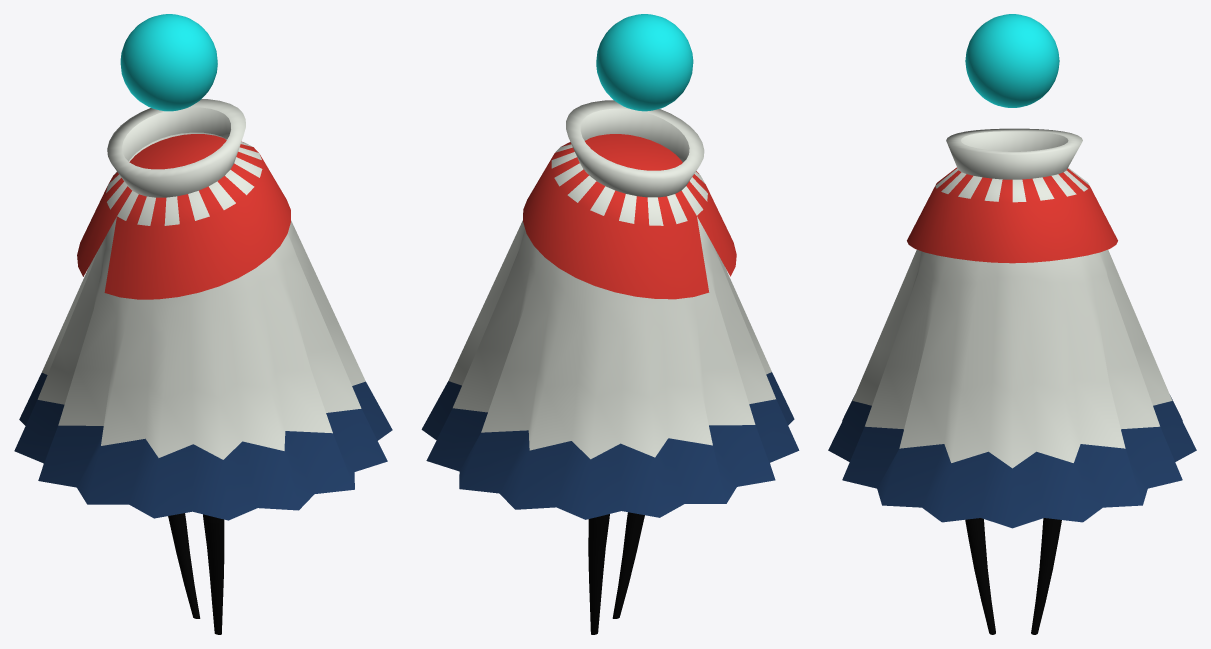
The model's file is Character model1.fbx.
3 renders of one model, left to right at view 1: azimuth 30°, elevation 25°; view 2: azimuth 150°, elevation 25°; view 3: azimuth 270°, elevation 25°, orthographic. The views are drawn at different scales.
Visible parts, largest first — view 1: Cylinder, Cylinder.001, Cylinder.003, Sphere, Cylinder.007, Cylinder.008; view 2: Cylinder, Cylinder.001, Cylinder.003, Sphere, Cylinder.008, Cylinder.007; view 3: Cylinder, Cylinder.001, Sphere, Cylinder.003, Cylinder.007, Cylinder.008.
Part boxes in pixels (x1,y1,x2,y2): Cylinder: (14,217,392,520); Cylinder.001: (77,134,290,299); Cylinder.003: (107,99,245,197); Sphere: (120,14,217,111); Cylinder.007: (203,514,224,634); Cylinder.008: (168,513,200,618); Cylinder: (421,216,799,519); Cylinder.001: (523,134,736,299); Cylinder.003: (566,100,704,197); Sphere: (596,14,693,111); Cylinder.008: (588,514,609,634); Cylinder.007: (612,512,644,618); Cylinder: (828,249,1196,528); Cylinder.001: (907,167,1117,263); Sphere: (965,14,1059,107); Cylinder.003: (946,128,1082,179); Cylinder.007: (965,518,995,634); Cylinder.008: (1031,518,1061,634).
Size of the model in its own units: 125 by 223 by 125.
